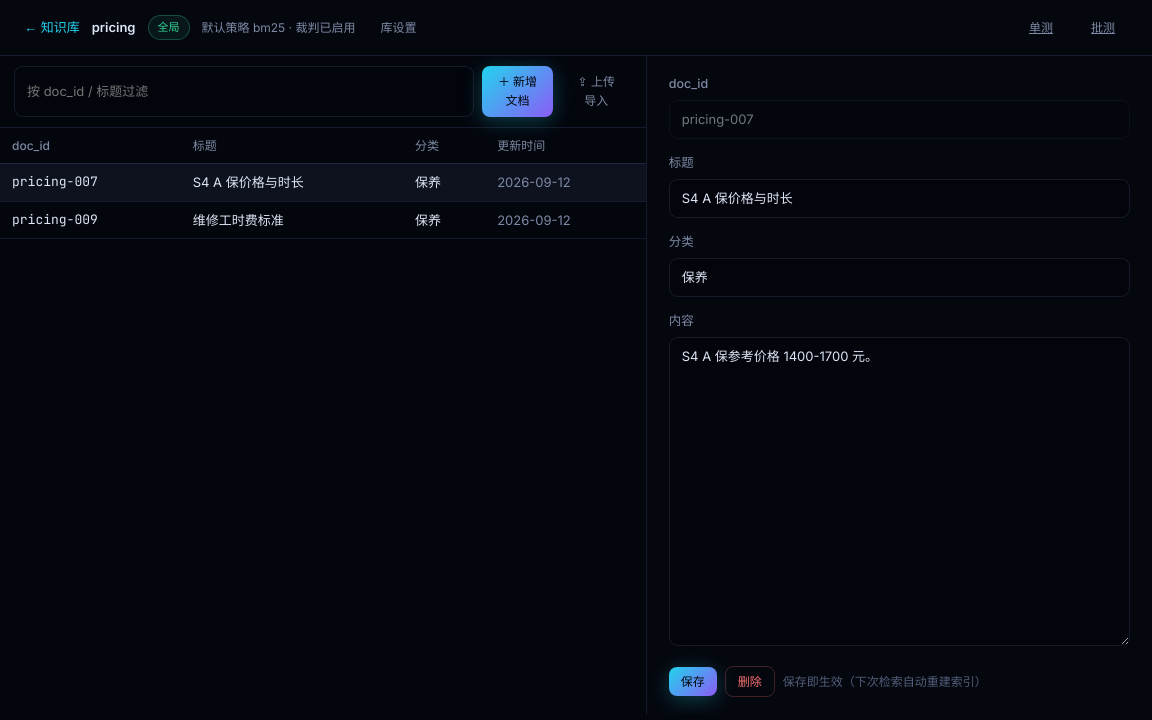
Test case: KbWorkspacePage › renders the doc table with update time and selects a row into the editor
This screenshot has width=1152, height=720.
Click the row "pricing-009 维修工时费标准 保养 2026-09-12". click: [323, 220]
box: x1=0 y1=201 x2=646 y2=239
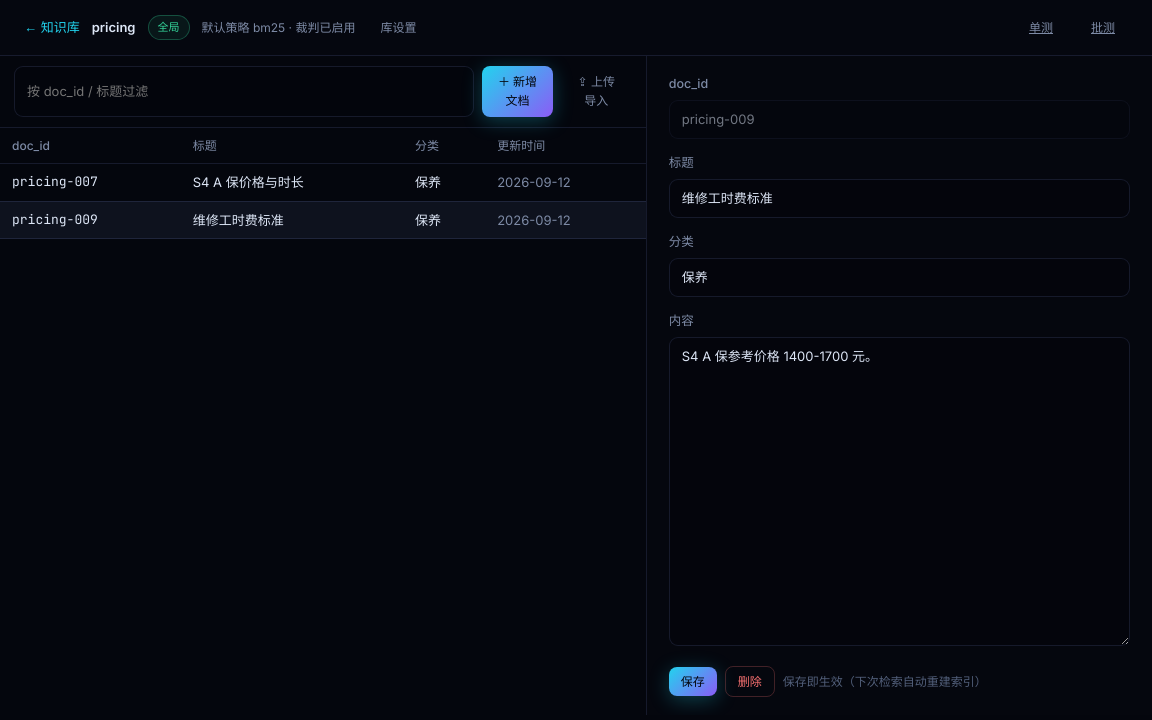
Expected: the field named "标题" holds "维修工时费标准", x1=669 y1=179 x2=1130 y2=218
